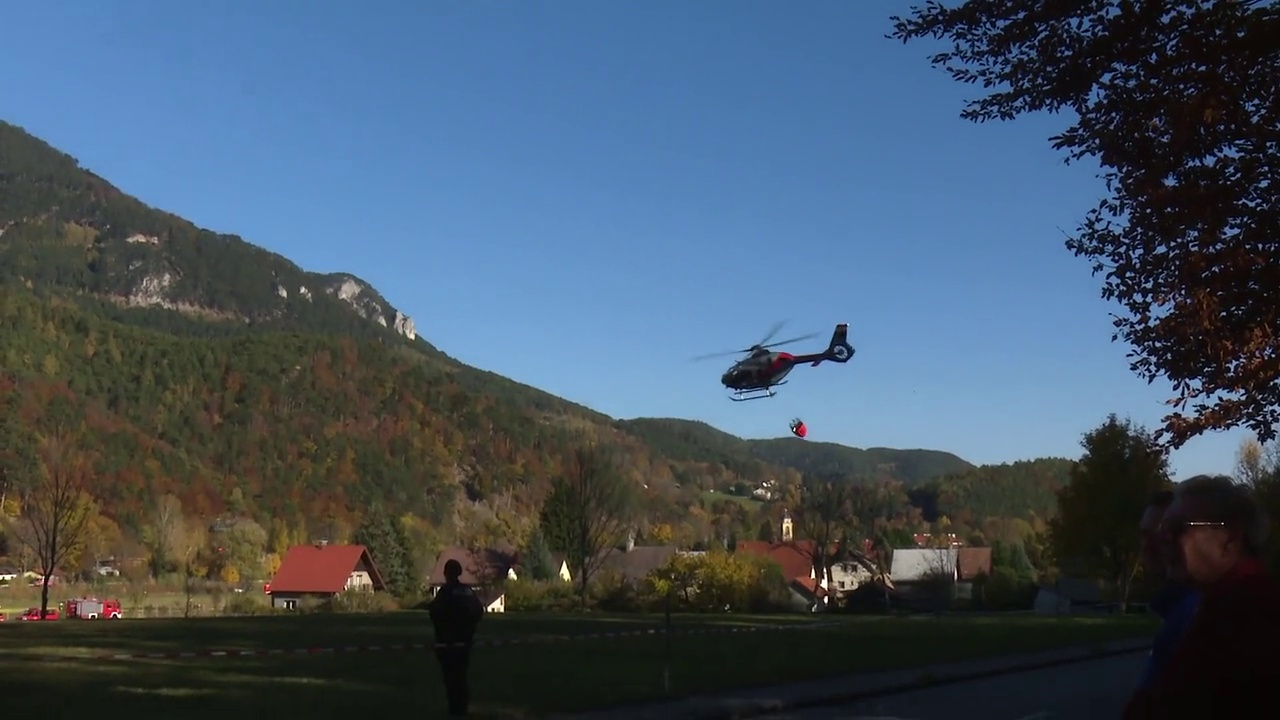heli: (694, 320, 854, 403)
